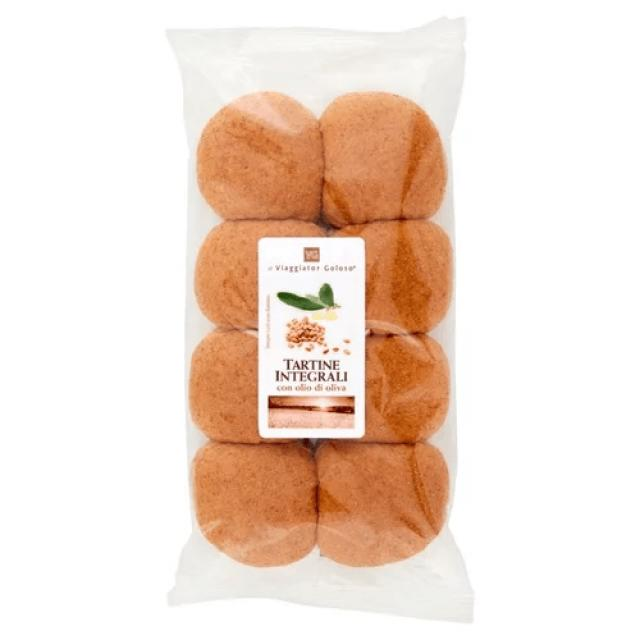Bread loaf: (168, 15, 474, 622)
